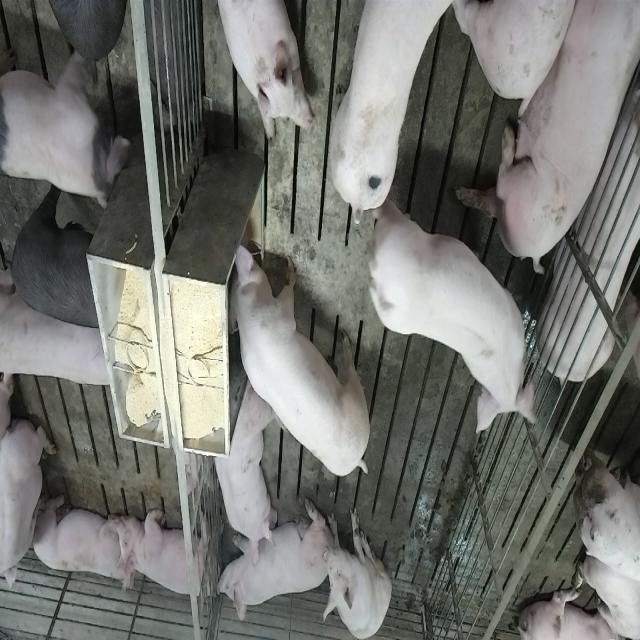Feeding: (220, 236, 368, 478)
Lateral_lying: (463, 0, 640, 272), (540, 65, 640, 382)
Sitting: (322, 505, 392, 639)
Standing: (368, 171, 540, 441), (323, 0, 468, 221), (1, 44, 120, 216), (9, 188, 103, 336), (3, 276, 117, 384), (36, 2, 126, 66)
Sternal_lying: (210, 0, 312, 140), (215, 500, 325, 628), (210, 382, 274, 559), (2, 413, 56, 600), (30, 491, 130, 589), (118, 505, 215, 603)
